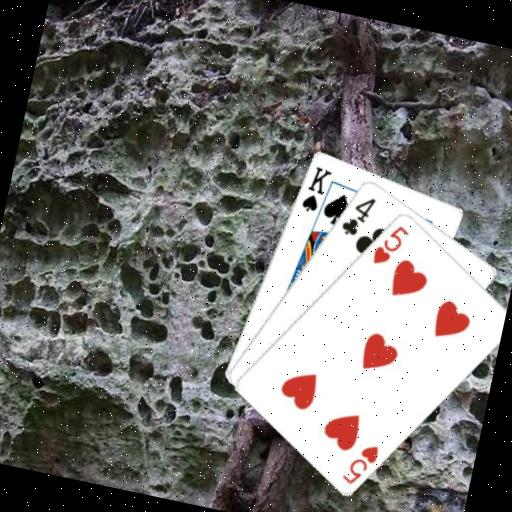4C: (337, 189, 378, 240)
5H: (367, 217, 412, 271), (338, 436, 382, 490)
KS: (297, 161, 334, 216)
